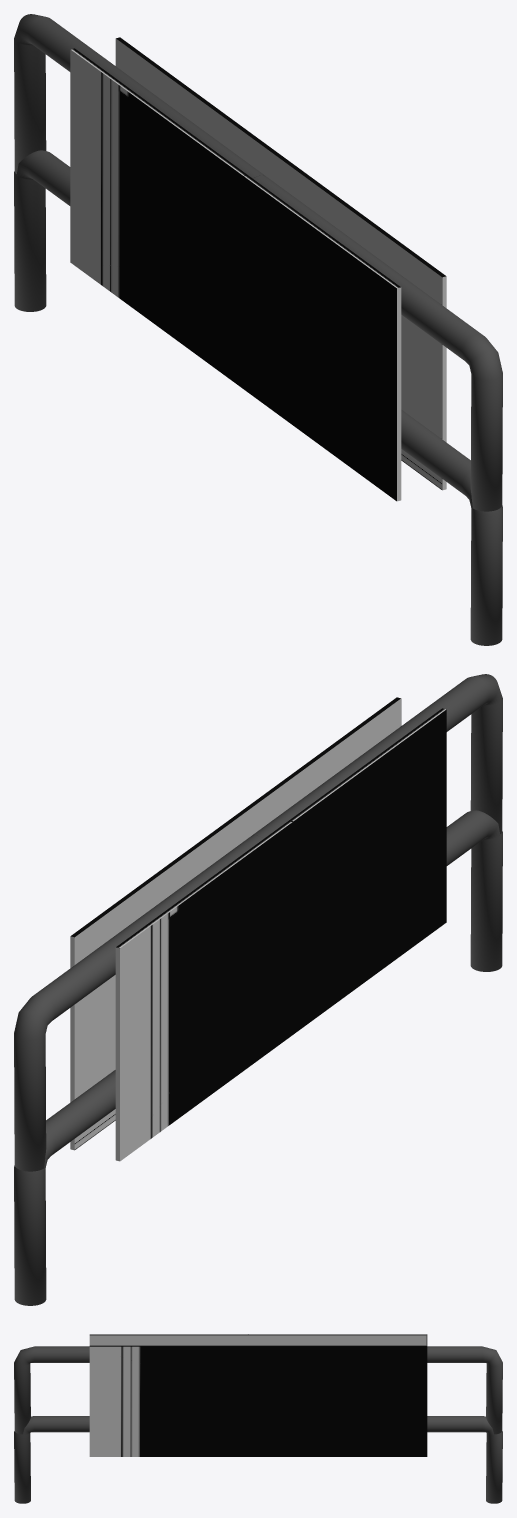
Rendered from wall_prop2.fbx.
3 views of the same model, one above another, from view 1: azimuth 30°, elevation 25°; view 2: azimuth 150°, elevation 25°; view 3: azimuth 270°, elevation 25° (orthographic). The views are drawn at different scales.
Parts seen in each view (by area): view 1: 立方体, 円柱, 円柱.001; view 2: 立方体, 円柱, 円柱.001; view 3: 立方体, 円柱, 円柱.001.
Part boxes in pixels (bbox=[...]): 立方体: bbox=[70, 37, 446, 501]; 円柱: bbox=[14, 14, 502, 511]; 円柱.001: bbox=[14, 150, 502, 645]; 立方体: bbox=[70, 697, 446, 1161]; 円柱: bbox=[14, 674, 502, 1171]; 円柱.001: bbox=[14, 810, 502, 1305]; 立方体: bbox=[89, 1334, 427, 1456]; 円柱: bbox=[14, 1346, 502, 1434]; 円柱.001: bbox=[14, 1416, 502, 1503].
Bounding box in the file's own units: 87.8 × 523 × 1448.
